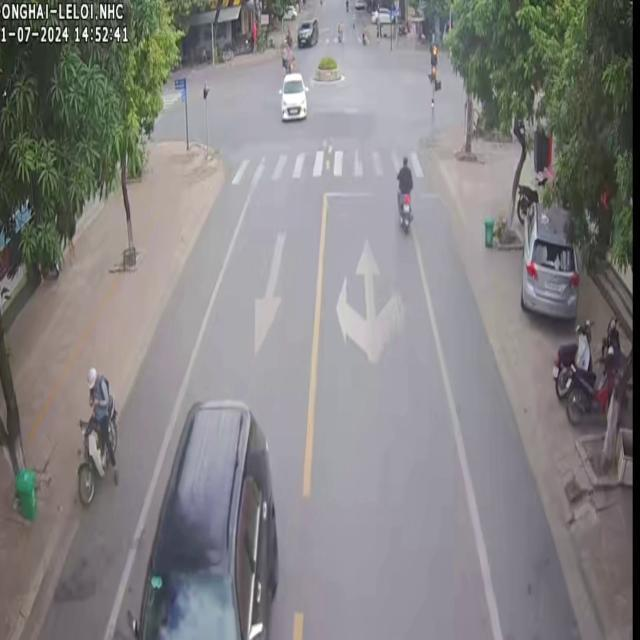car: (136, 400, 276, 638), (519, 194, 578, 318), (279, 71, 307, 117)
motobike: (563, 316, 622, 422), (76, 365, 118, 502), (550, 318, 590, 398), (396, 156, 412, 231)
stop_line: (323, 189, 436, 196)
yellow_light: (427, 40, 435, 85)
